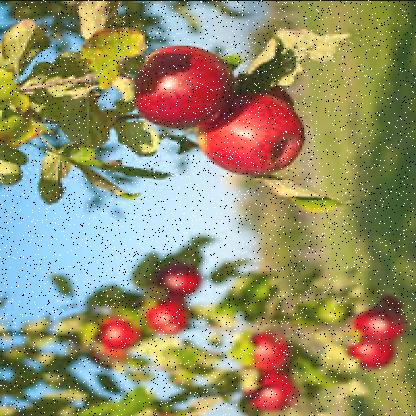apple: (198, 94, 300, 178), (138, 45, 222, 136), (244, 324, 292, 374), (138, 292, 192, 334), (244, 370, 296, 412), (353, 298, 398, 344), (159, 258, 209, 298), (101, 313, 143, 355), (344, 336, 386, 368)
